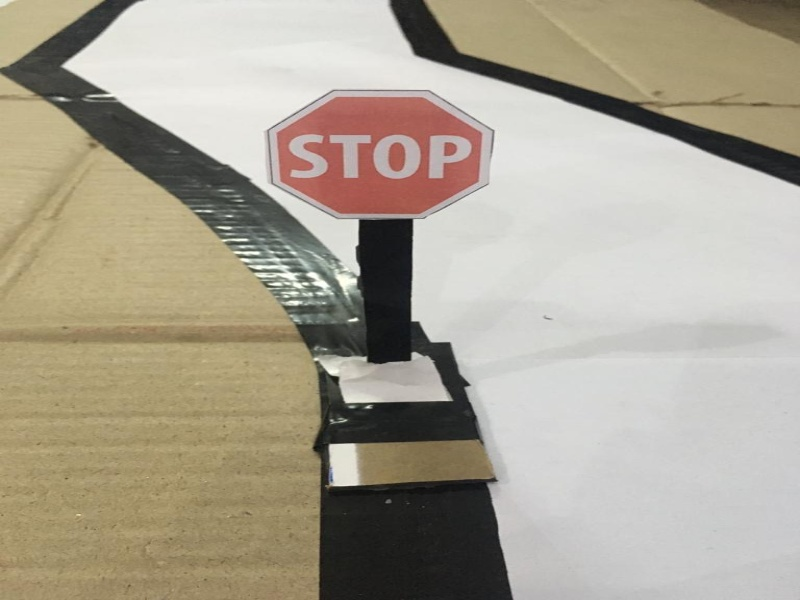Stop: (246, 77, 505, 222)
